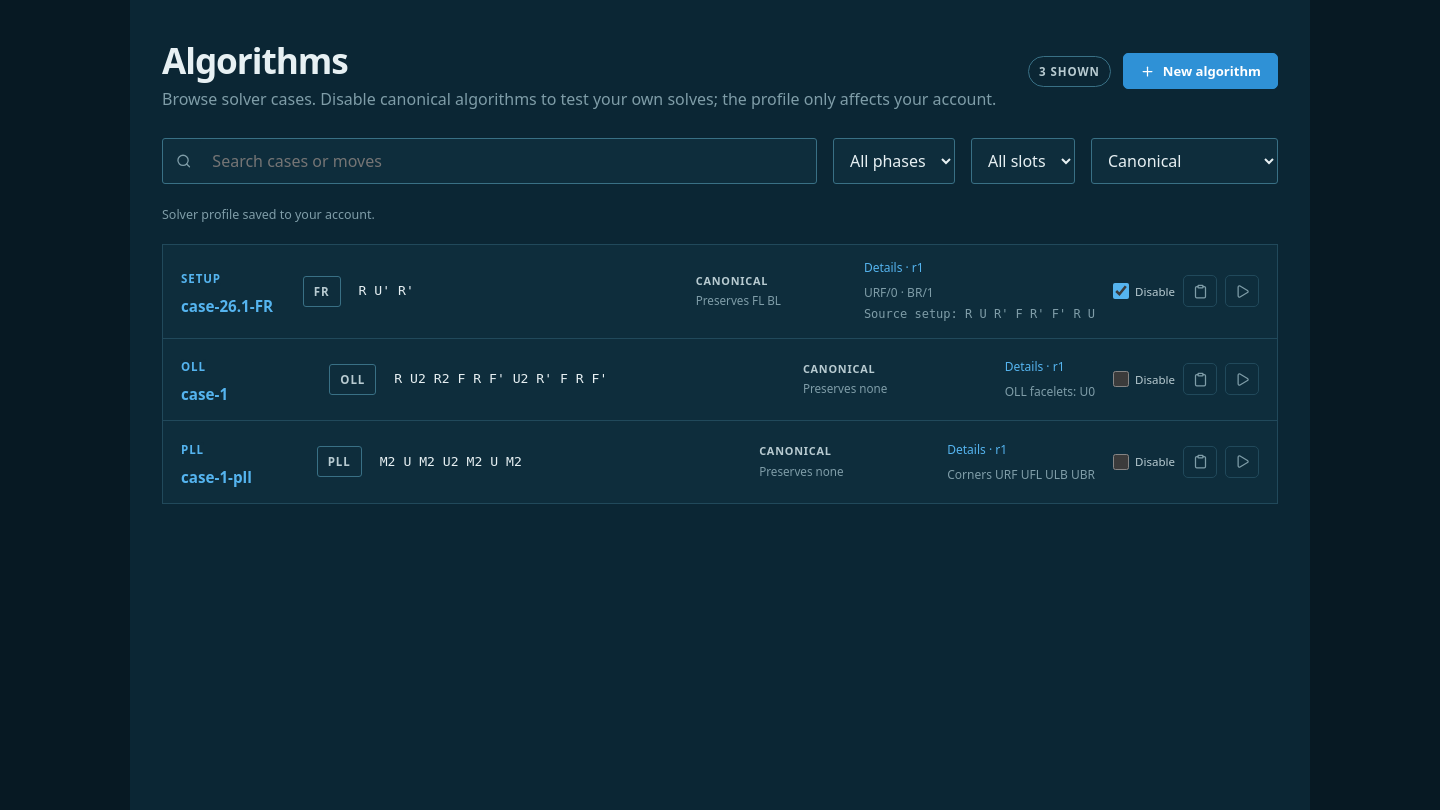
Test: AlgorithmsView › filters the catalog to algorithms disabled in the current solver profile
Check: the button "case-1-pll" is shown, box [181,467,252,487]
Select "Disabled only" in the dropdown named "Algorithm status". click: (1184, 161)
box: [1091,138,1278,184]
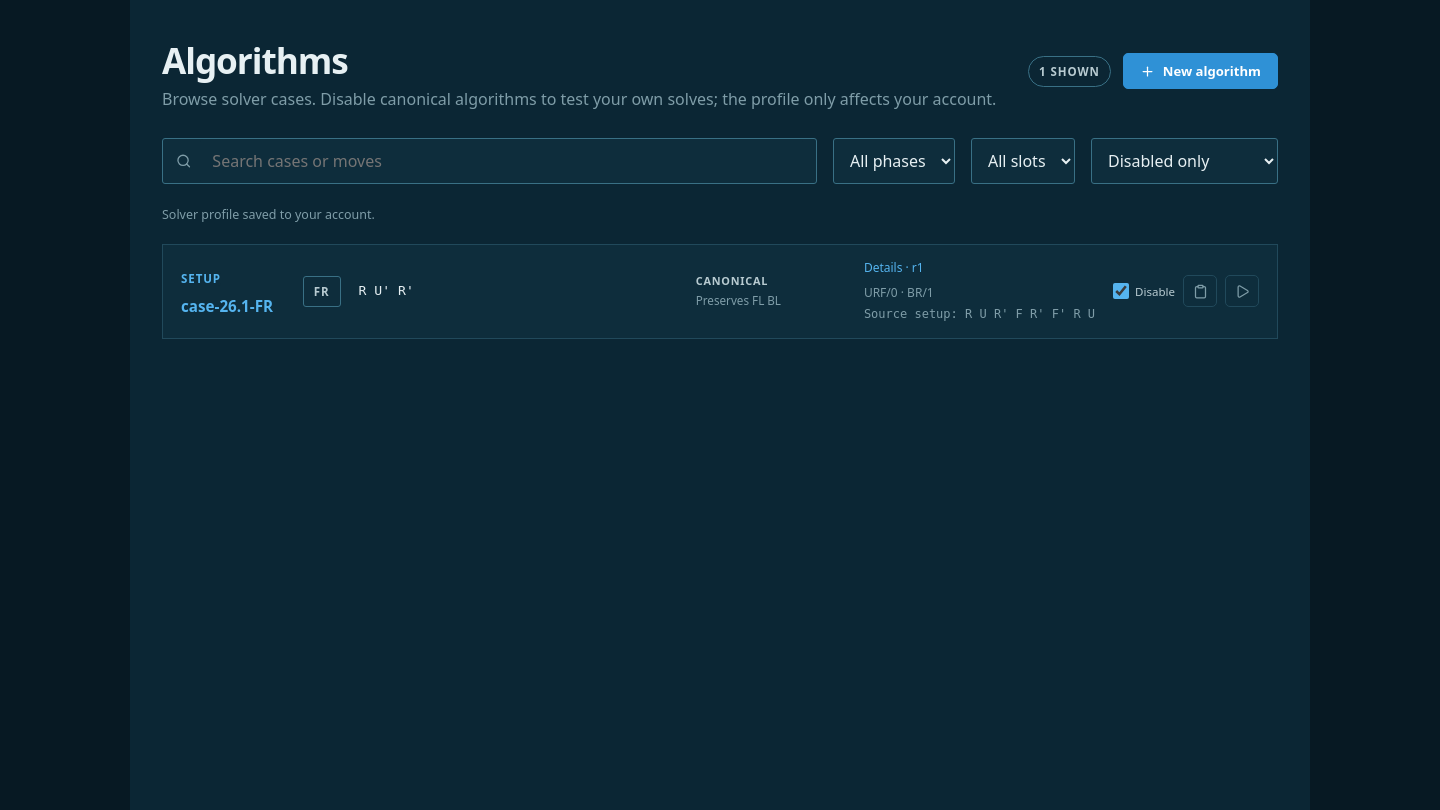
Check: the button "case-26.1-FR" is shown, box [181,296,273,316]
Check: the button "case-1-pll" is gone
Check: the text "1 shown" is shown, box [1028,56,1111,86]
